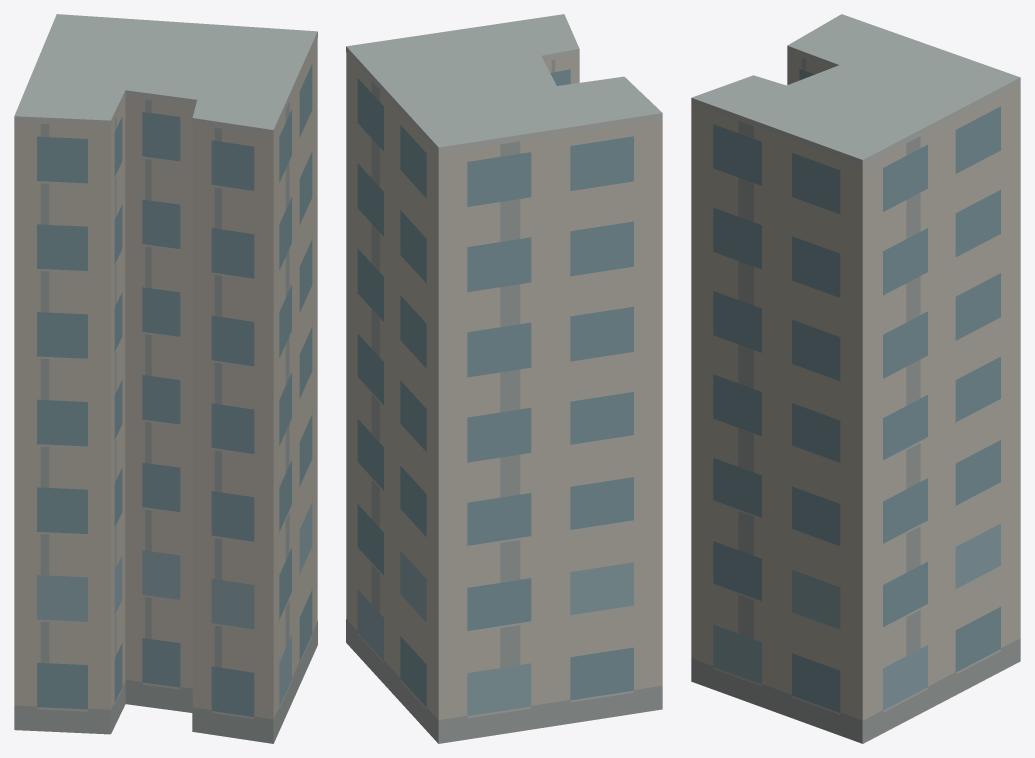
The model's file is survey-upis-32894147.glb.
The picture shows the model from 3 angles, left to right: view 1: azimuth 30°, elevation 25°; view 2: azimuth 150°, elevation 25°; view 3: azimuth 270°, elevation 25°; orthographic projection. The views are drawn at different scales.
Visible parts, largest first — view 1: survey-upis-32894147.tmp; view 2: survey-upis-32894147.tmp; view 3: survey-upis-32894147.tmp.
Boxes of the visible parts, left/top/right/bottom form: survey-upis-32894147.tmp: left=14, top=14, right=317, bottom=743; survey-upis-32894147.tmp: left=346, top=14, right=662, bottom=743; survey-upis-32894147.tmp: left=691, top=14, right=1020, bottom=743.
Bounding box in the file's own units: 12.57 × 23.42 × 11.98.
